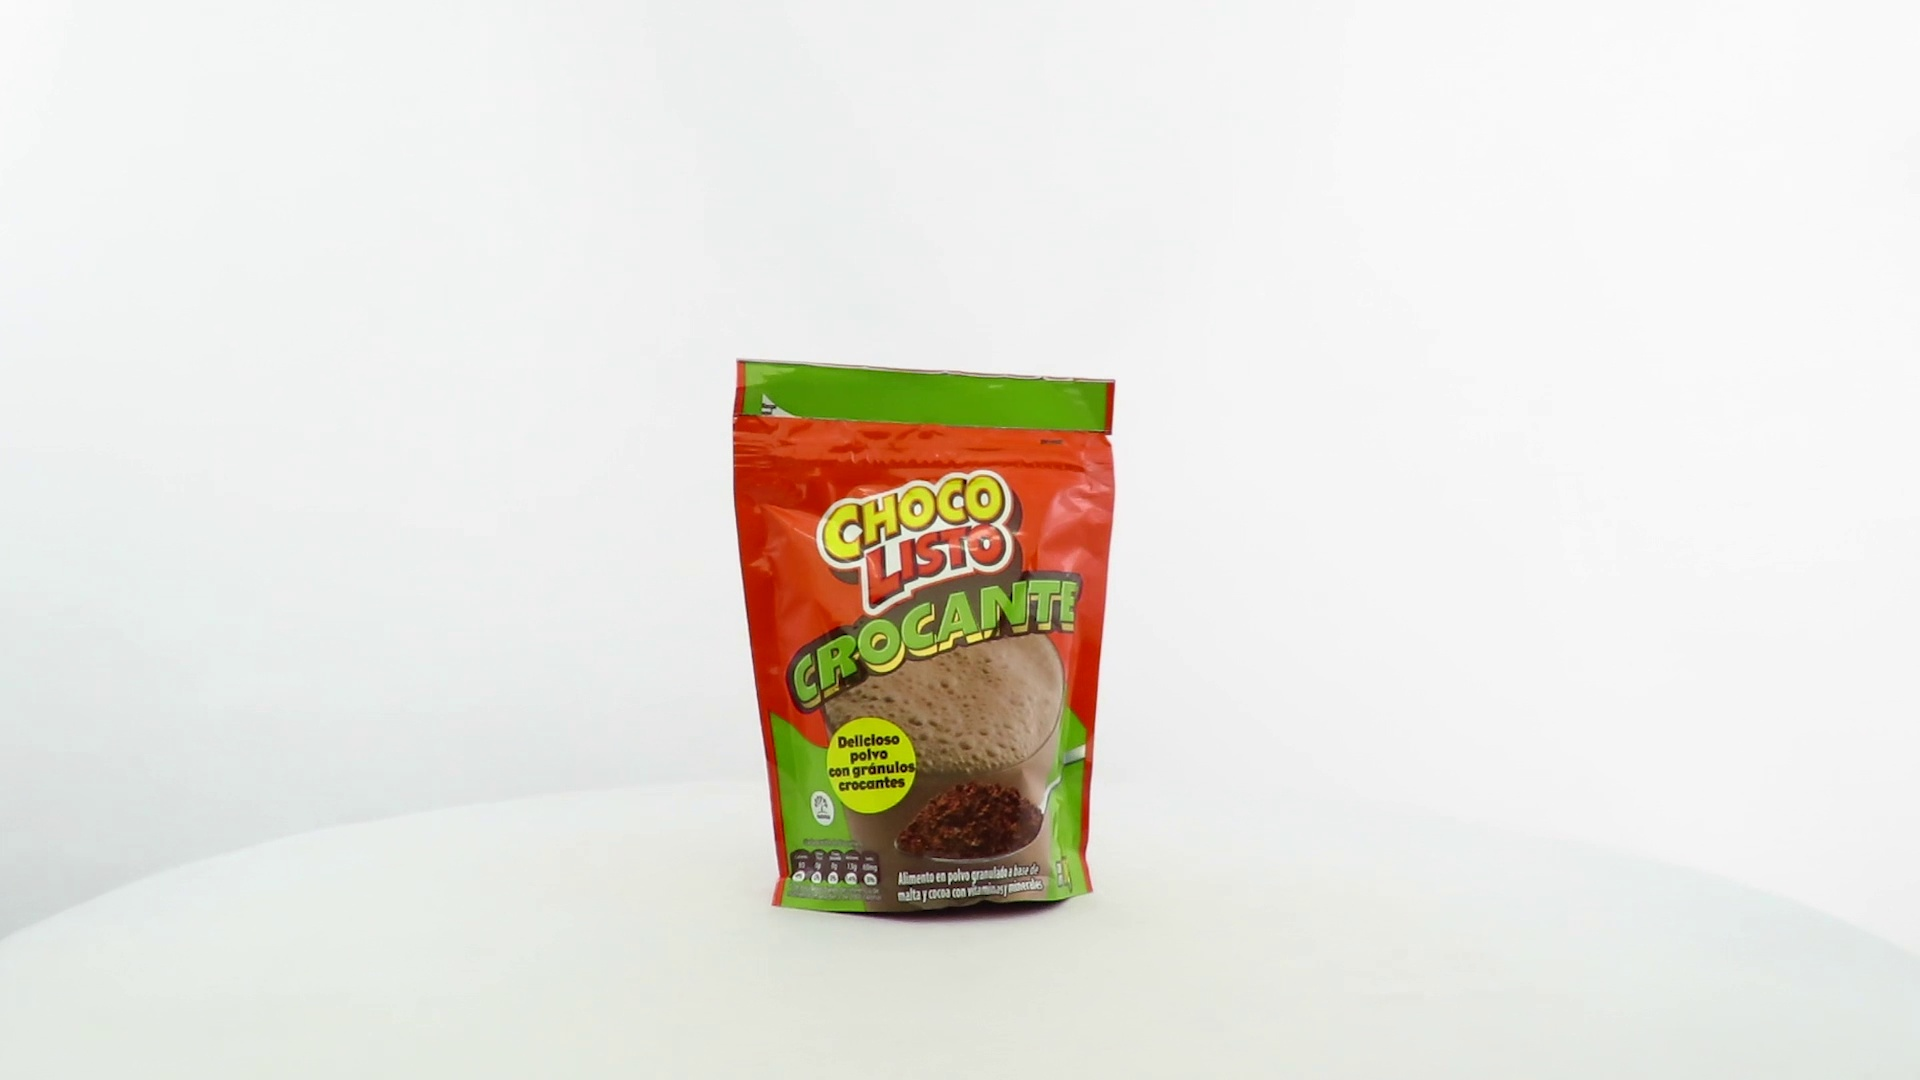COL0170102DYP10000: (727, 355, 1122, 928)
